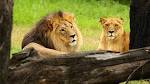lion: (20, 11, 81, 61), (97, 14, 129, 55)
